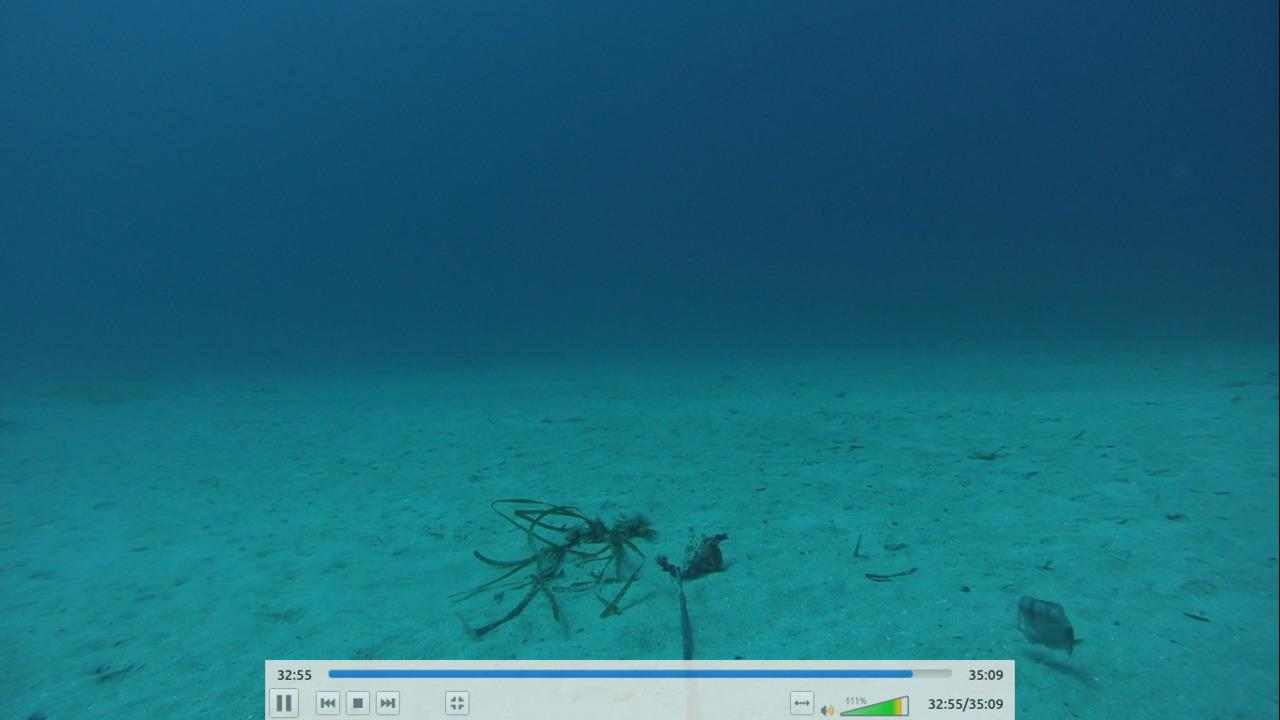raor: (1010, 588, 1088, 666)
